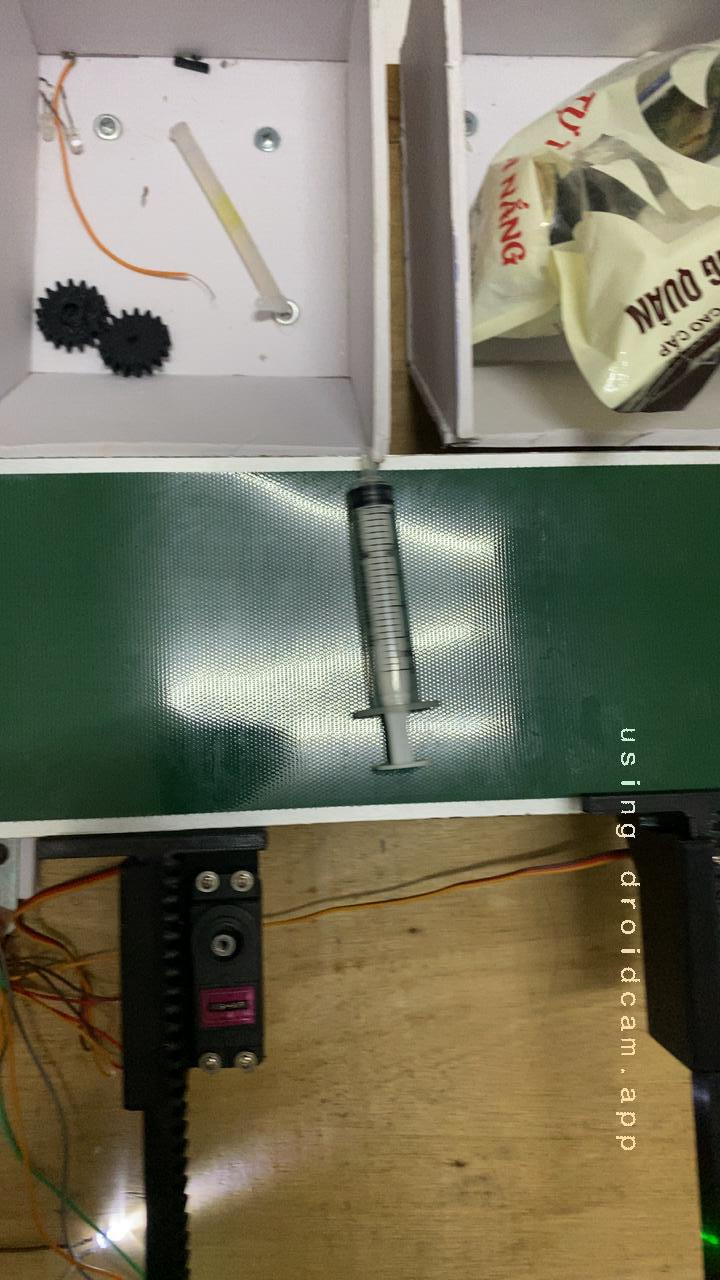syringe: (321, 468, 448, 785)
